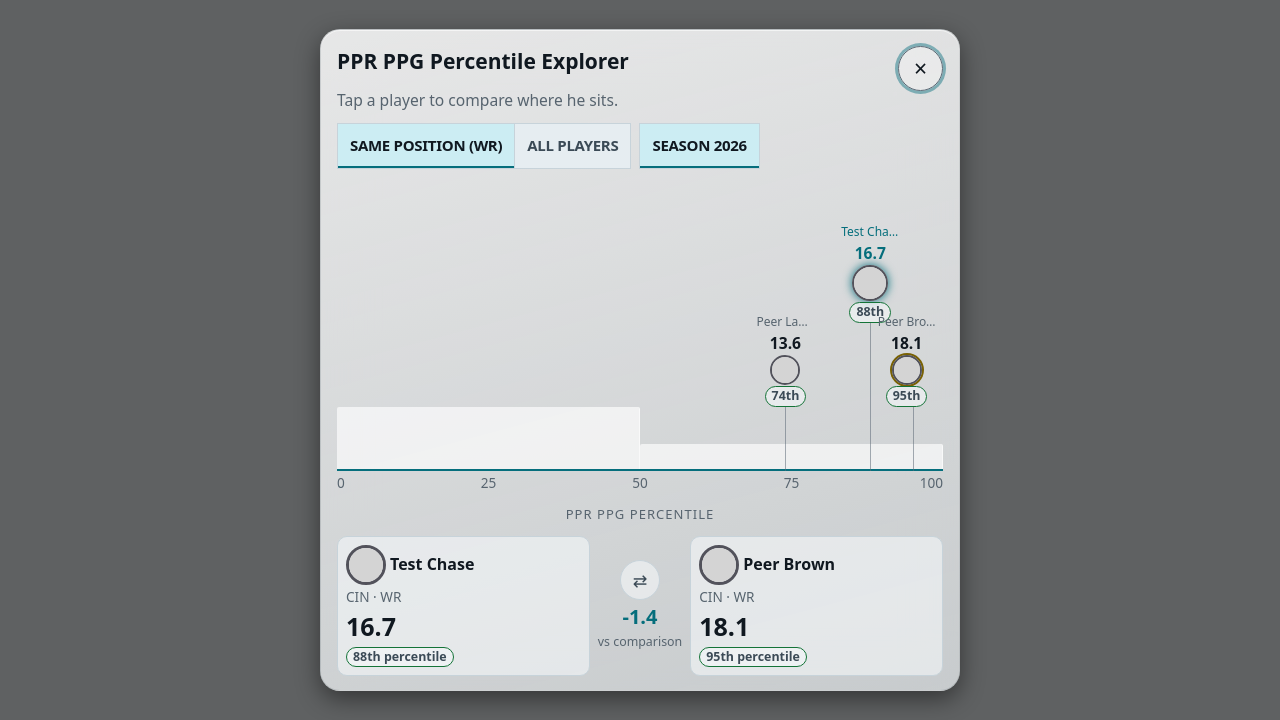
Test: PercentileExplorerSheet › renders markers and a compare card with the delta, and swaps
This screenshot has width=1280, height=720.
Expected: the element with test id "pe-chart" is shown, [337,189,943,493]
Expected: the element with test id "pe-compare" shows "-1.4", [622,603,658,630]
What coordinates should you click on to do the following:
click the button with aria-label "Peer Lamb, 13.6"
I would click on:
 (785, 360)
Its box is [756,313,814,407].
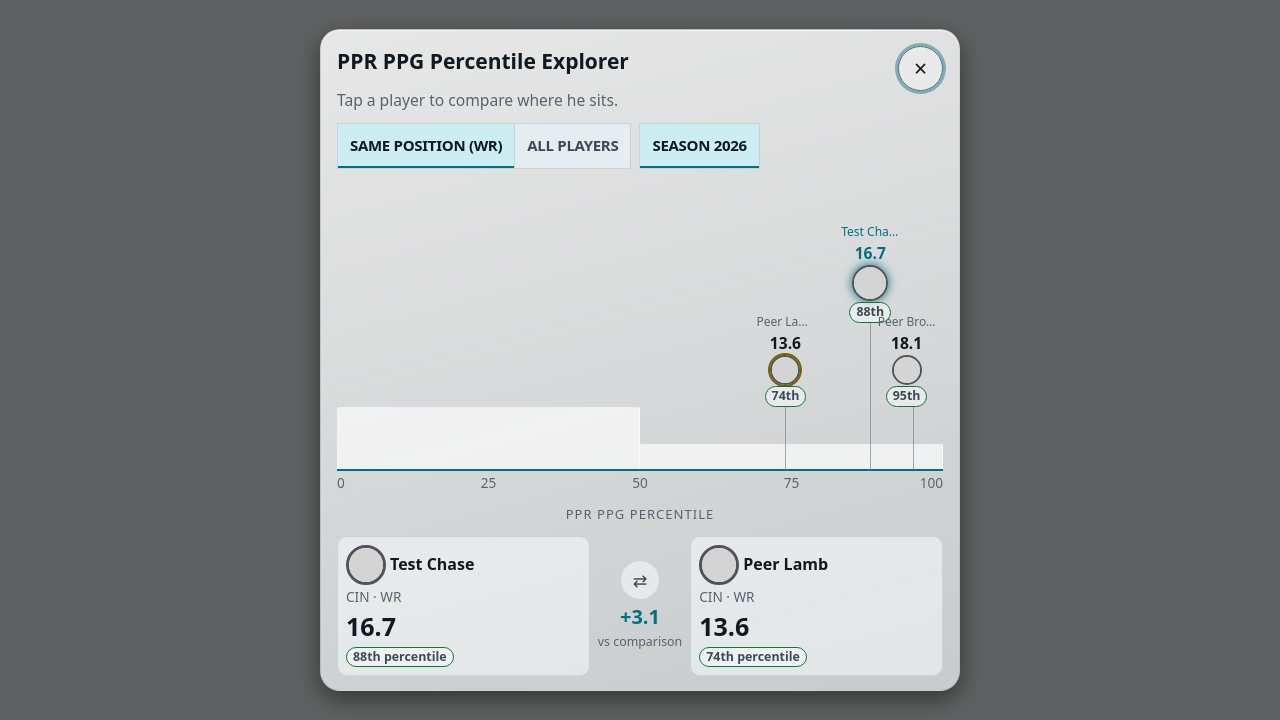
Expected: the element with test id "pe-compare" shows "+3.1", [620,603,660,630]
What coordinates should you click on to do the following:
click the button named "Swap comparison"
I would click on:
 (640, 580)
Its box is [620,560,660,600].
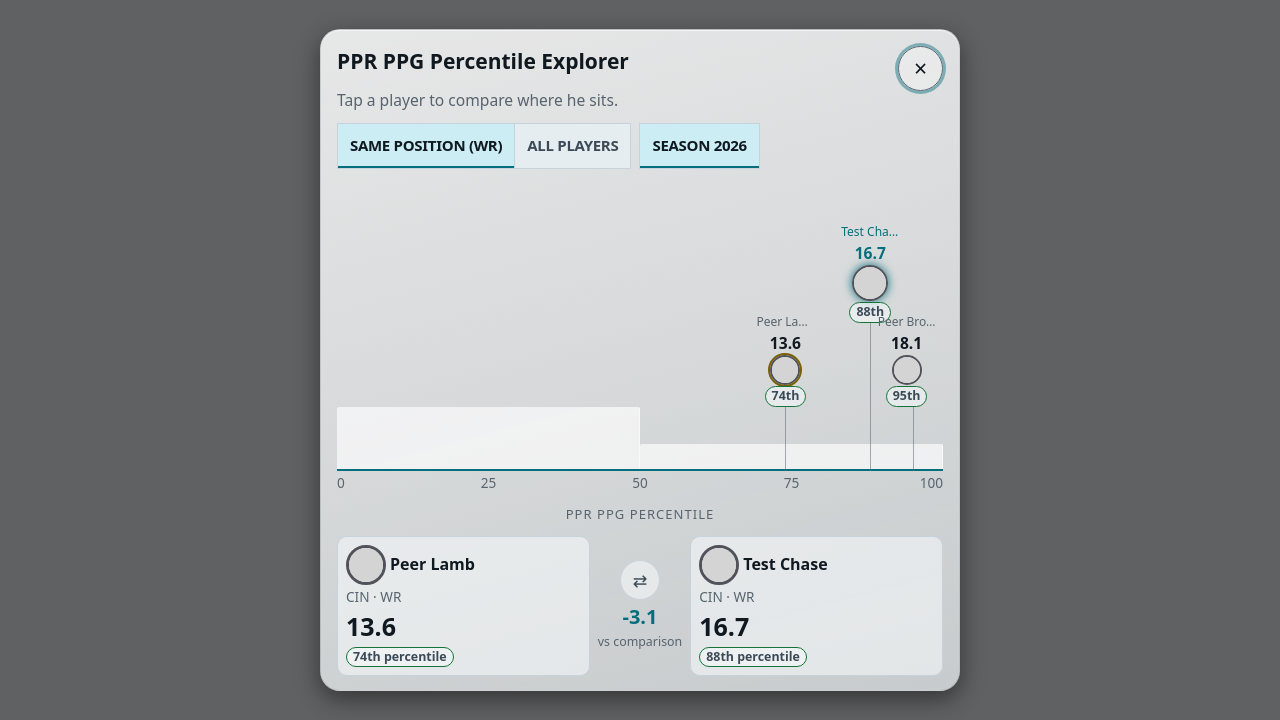
Expected: the element with test id "pe-compare" shows "-3.1", [622,603,658,630]
